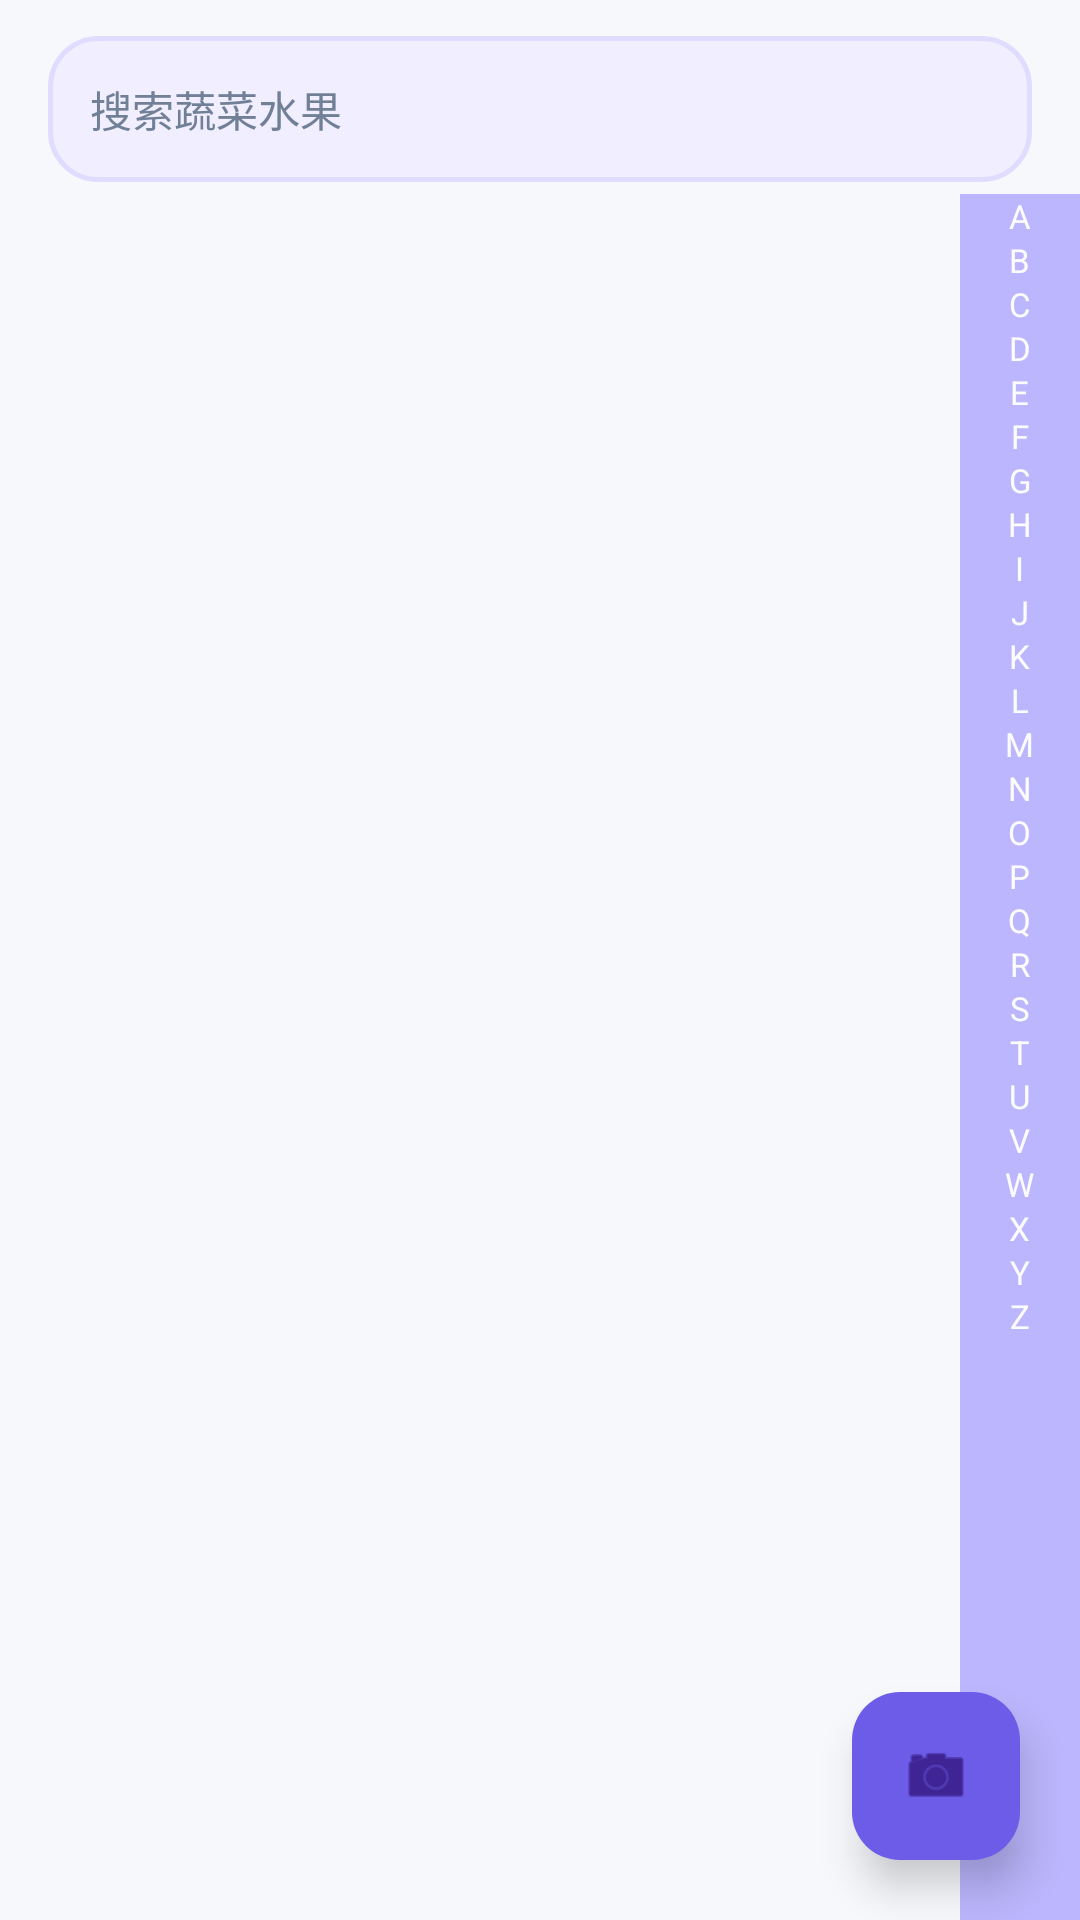

Icon click points for this 1080x1920 phone screenshot, format [x,y]:
食材识别: [936,1776]
